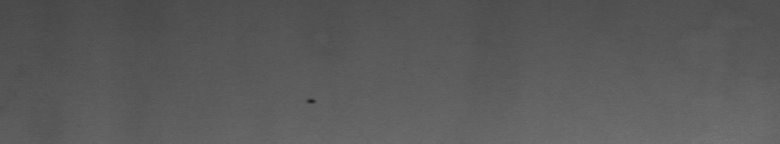fi: (306, 92, 317, 112)
